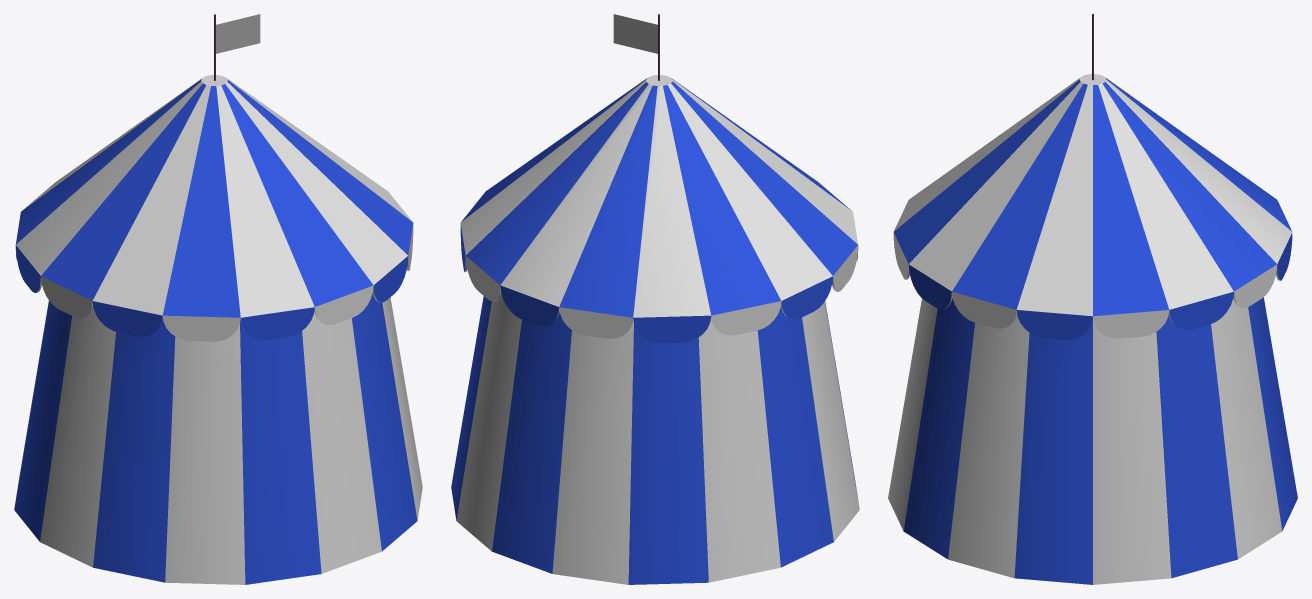
The model's file is mid03tent_lowpoly.fbx.
3 renders of one model, left to right at view 1: azimuth 30°, elevation 25°; view 2: azimuth 150°, elevation 25°; view 3: azimuth 270°, elevation 25°, orthographic.
Visible parts, largest first — view 1: polySurface420, pPlane6; view 2: polySurface420, pPlane6; view 3: polySurface420.
Boxes of the visible parts, box(x1,y1,x2,y2) form: polySurface420: box(14, 14, 422, 584); pPlane6: box(216, 14, 260, 53); polySurface420: box(451, 14, 859, 584); pPlane6: box(613, 14, 657, 53); polySurface420: box(888, 14, 1297, 584).
Size of the model in its own units: 17.09 by 22.2 by 17.09.
